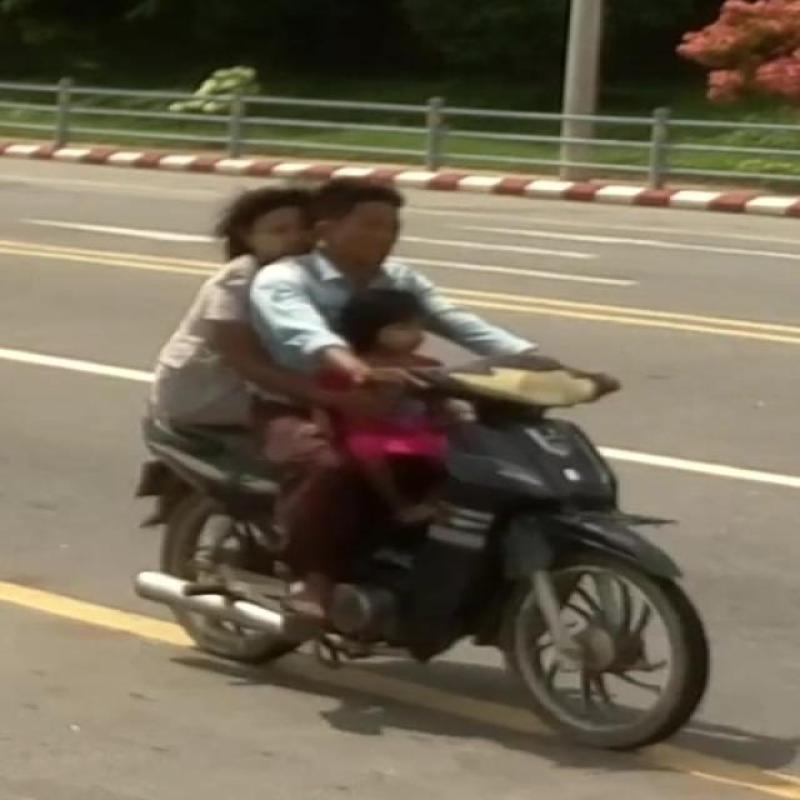nohelmet: (309, 169, 400, 272)
